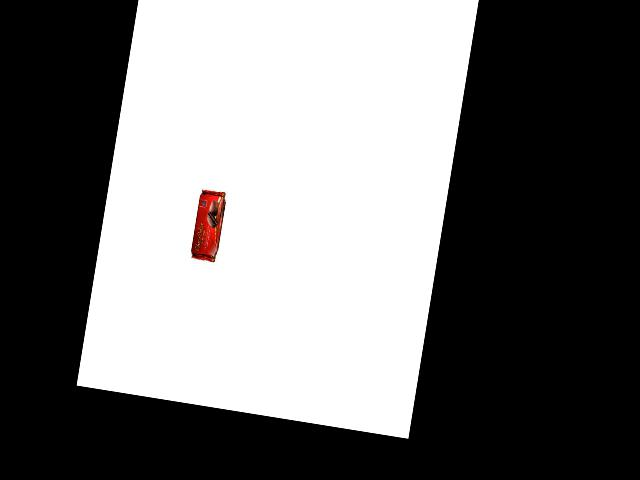chocolate: (189, 187, 233, 264)
